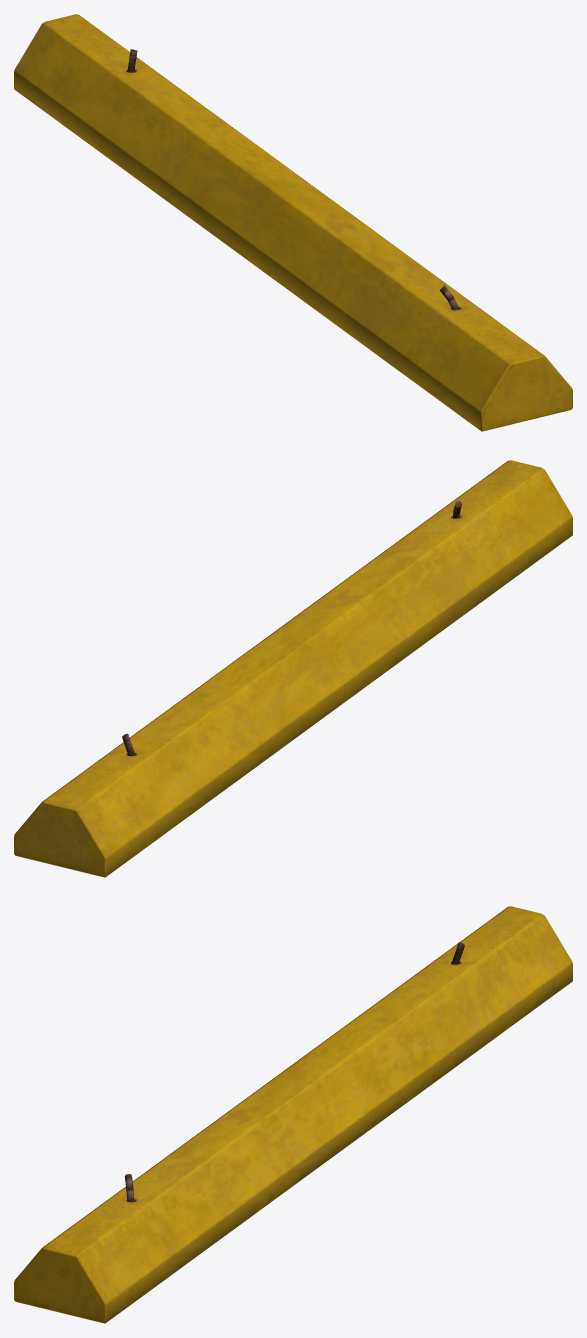
The model's file is Parking_Block.fbx.
3 views of the same model, one above another, from view 1: azimuth 30°, elevation 25°; view 2: azimuth 150°, elevation 25°; view 3: azimuth 330°, elevation 25° (orthographic).
Visible parts, largest first — view 1: Parking_Block; view 2: Parking_Block; view 3: Parking_Block.
Part boxes in pixels (bbox=[...]): Parking_Block: bbox=[14, 14, 572, 431]; Parking_Block: bbox=[14, 460, 572, 877]; Parking_Block: bbox=[14, 906, 572, 1323].
Size of the model in its own units: 0.2892 by 0.2439 by 2.52.
